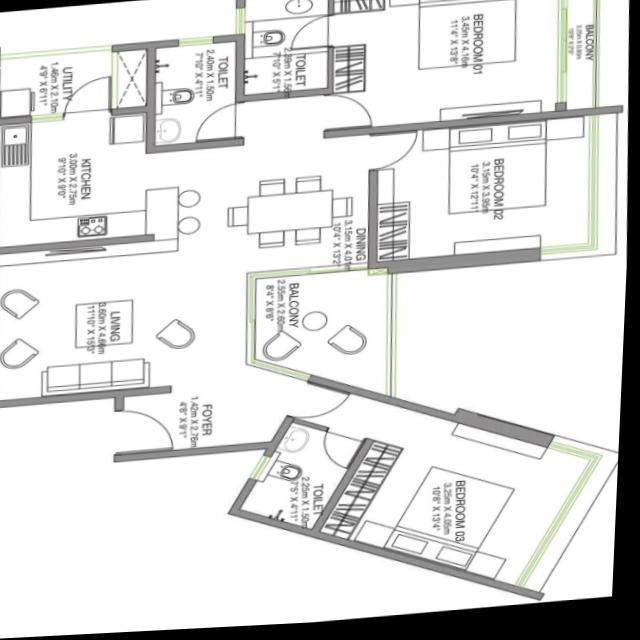Balcony-Sitout: (255, 268, 396, 400), (565, 0, 599, 115)
Bedroom: (379, 120, 592, 265)
Bedroom with Toilet: (238, 383, 599, 592), (241, 0, 561, 134)
Dining: (219, 173, 357, 255)
Enterance-Foyer: (119, 385, 235, 457)
Kitchen: (1, 114, 145, 246)
Living: (1, 238, 207, 400)
Toilet: (156, 42, 236, 146), (245, 0, 329, 96), (265, 430, 347, 527)
Utility: (0, 49, 112, 116)
